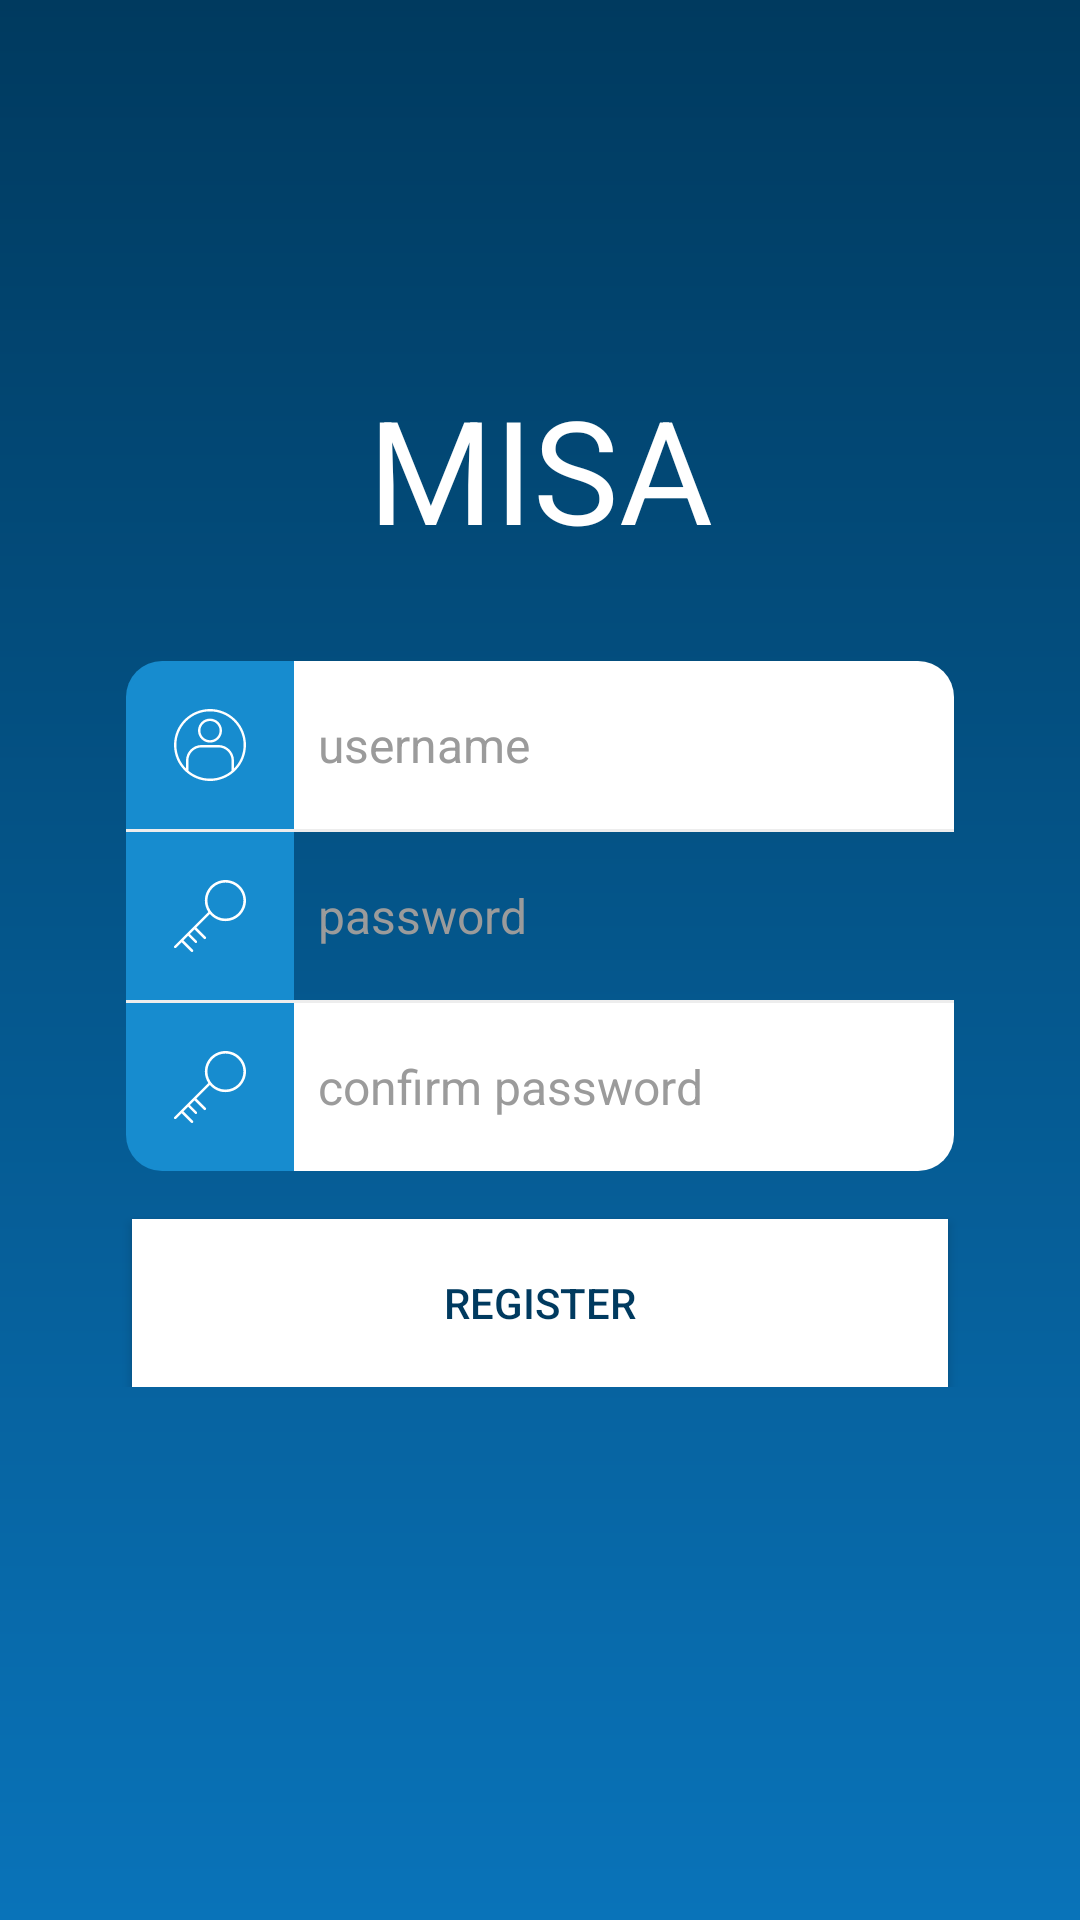

Icons on this 1080 × 1920 Android screen, each with the point to tap as (x=x, y=y):
key: (x=210, y=916), (x=210, y=1087)
